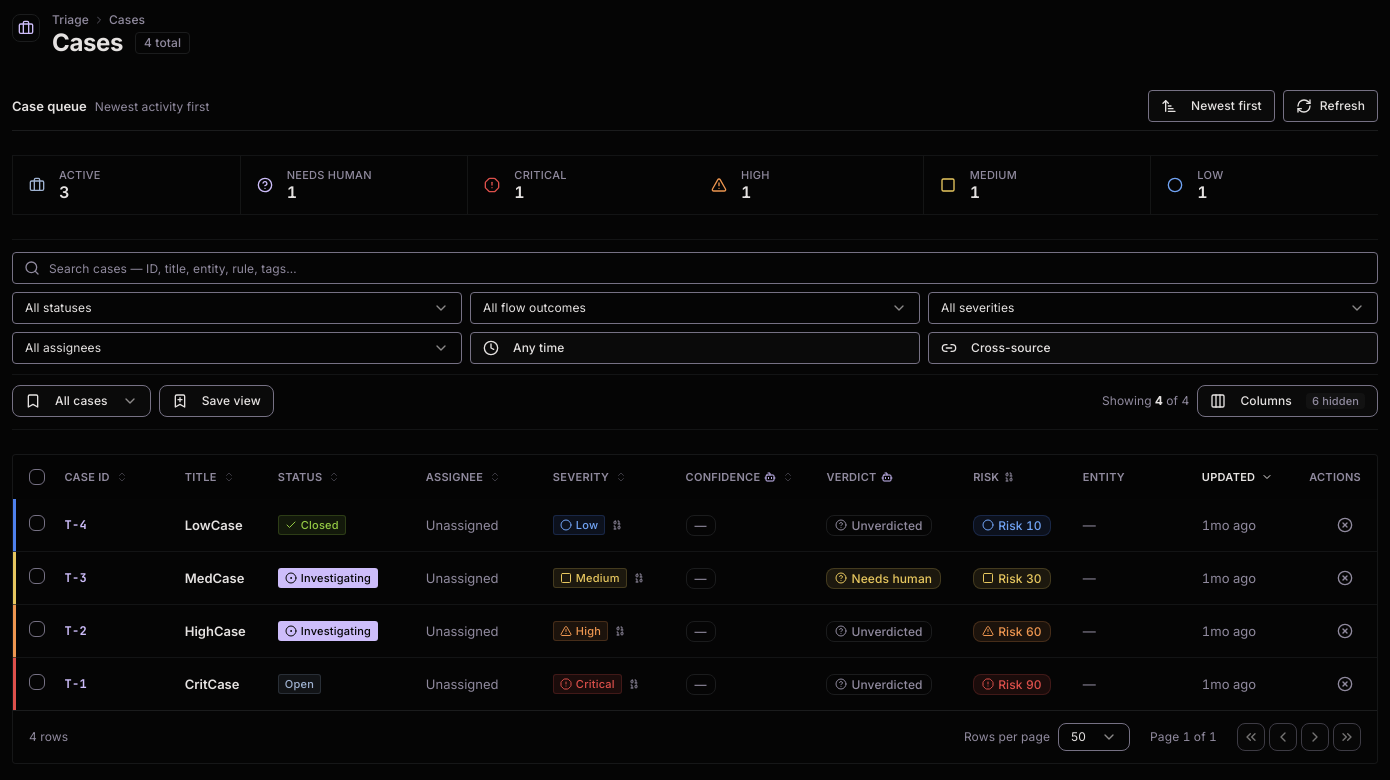
Scenario: Cases — summary strip › the Active status tile narrows to every non-terminal lifecycle state
This screenshot has width=1390, height=780.
Expected: the text "CritCase" is shown, top-left (185, 675), bottom-right (246, 693)
Click the button with test id "cases-summary-open".
click(126, 185)  # box top-left (12, 156), bottom-right (240, 214)
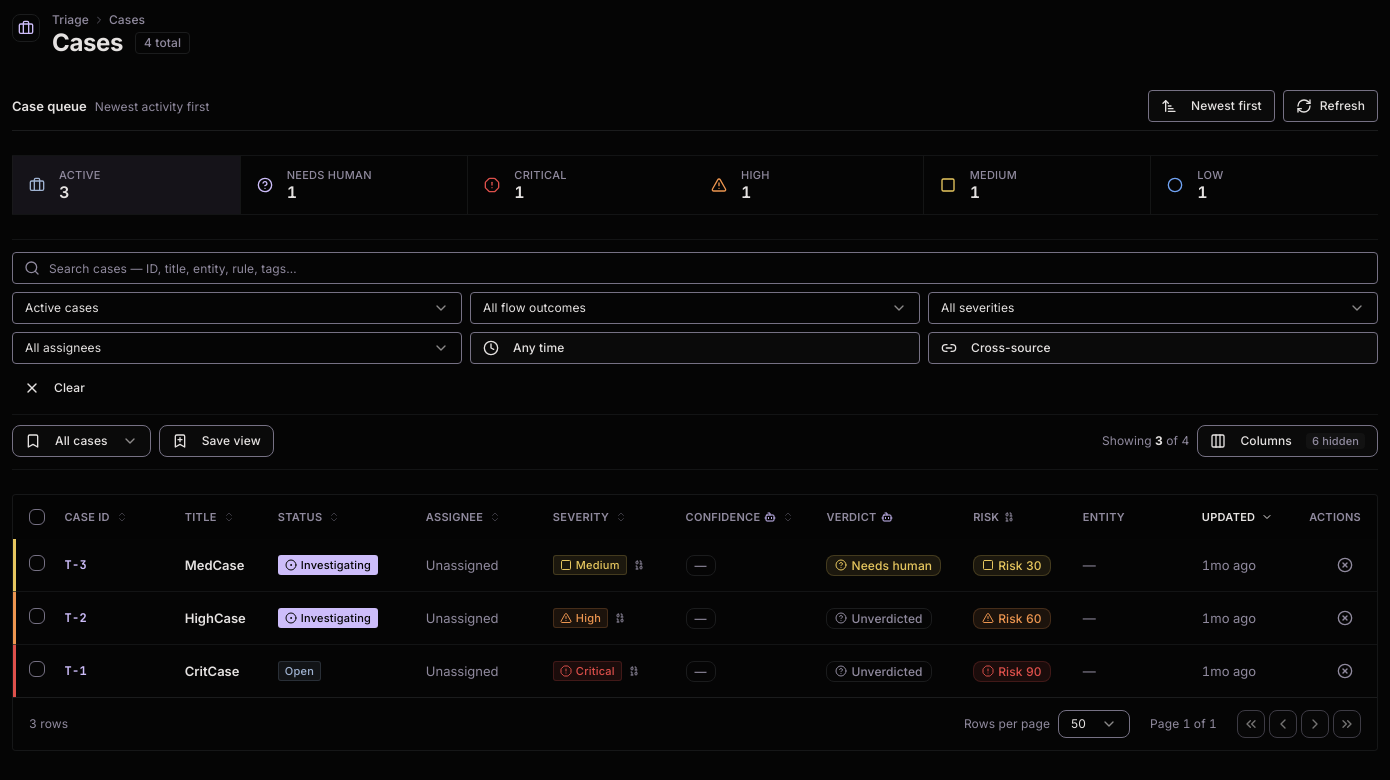
Expected: the text "CritCase" is shown, top-left (185, 662), bottom-right (246, 680)
Now the text "LowCase" is gone
